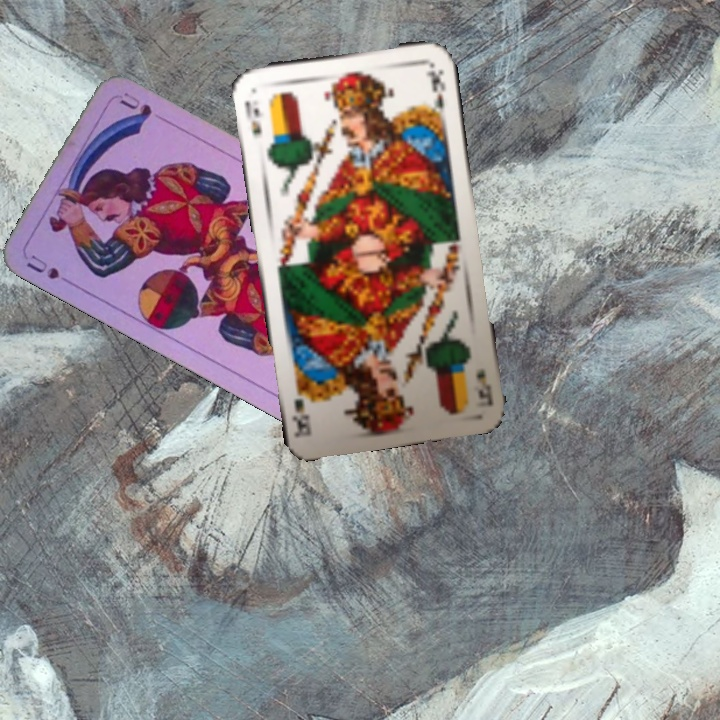EK: (471, 364, 496, 406), (240, 96, 263, 138)
SU: (22, 250, 79, 289)
